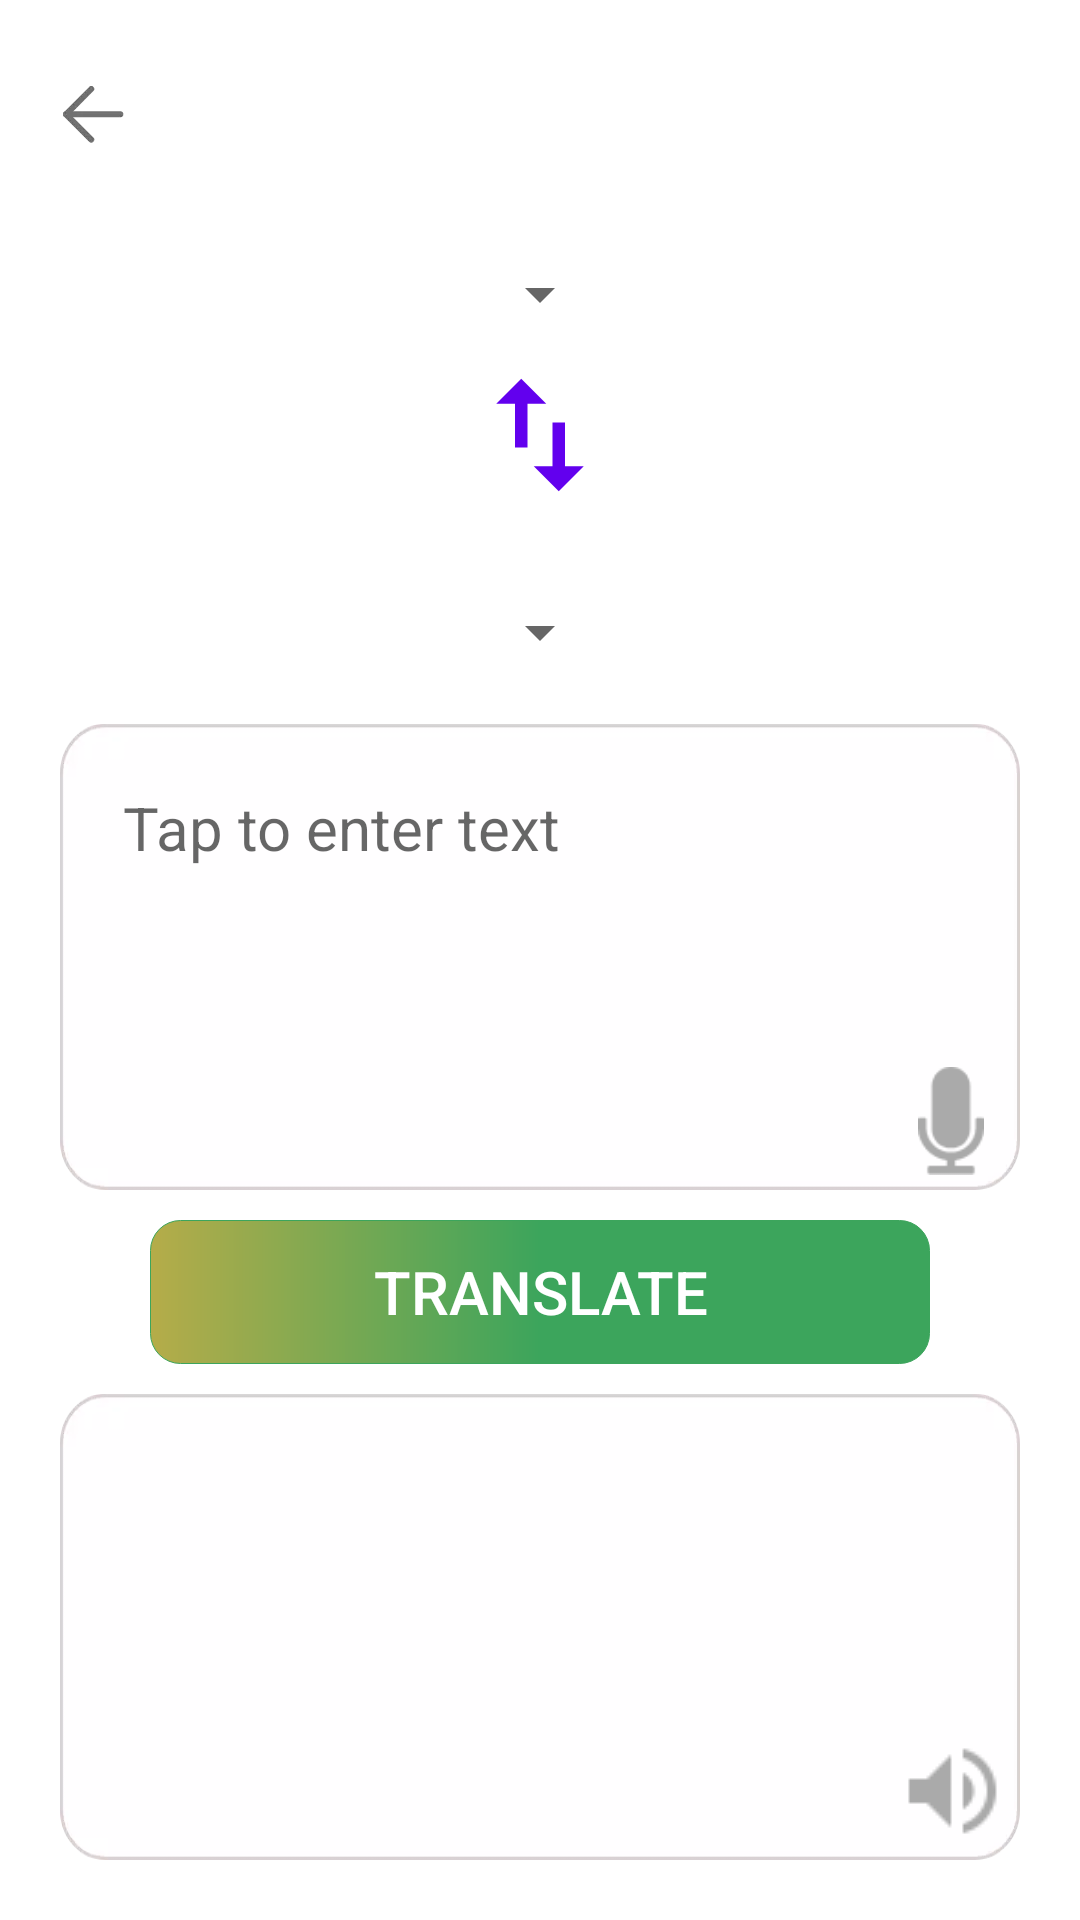

Locate icon controls on the screen. Image size 1080*1920, boxes as Rect(x1, y1, x2, y2).
back: Rect(63, 86, 124, 143)
swap: Rect(496, 379, 584, 491)
voice: Rect(918, 1067, 984, 1175)
volume up: Rect(908, 1748, 997, 1833)
